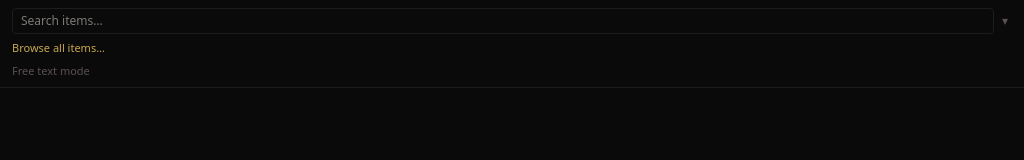
Test: GearSlot › unique item affixes are read-only — no tier slider rendered
Type "Solar" into the dropdown with placeholder "Search items…" at (503, 21), box [12,8,994,34]
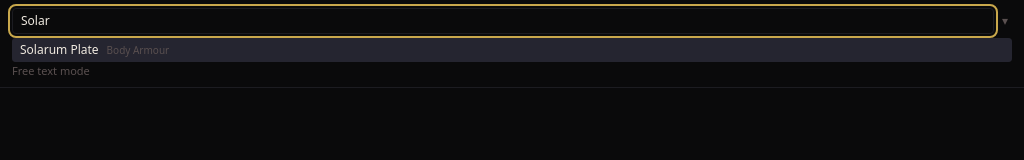
Result: the text "Solarum Plate" is shown
Click the text "Solarum Plate" at (59, 50), box [20,41,99,58]
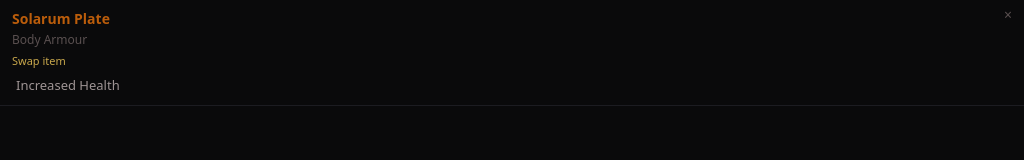
Result: the text "Increased Health" is shown at [16,76,120,95]
